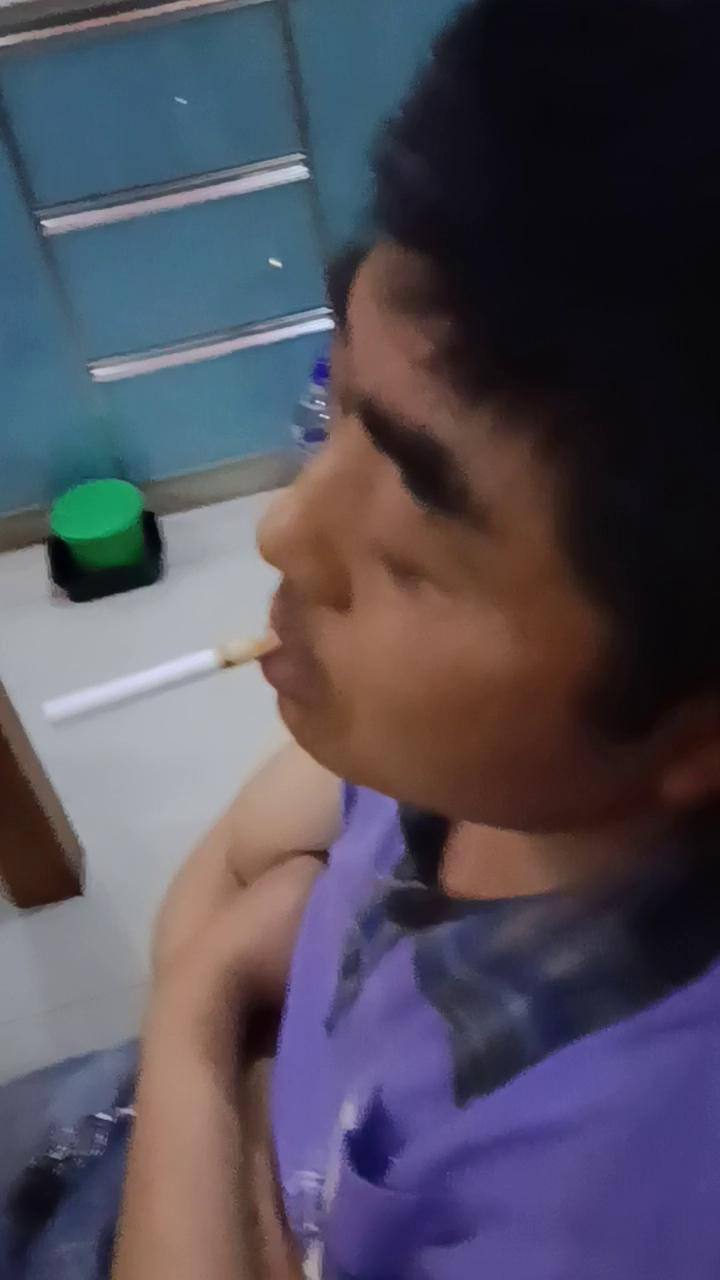smoke: (45, 630, 283, 728)
